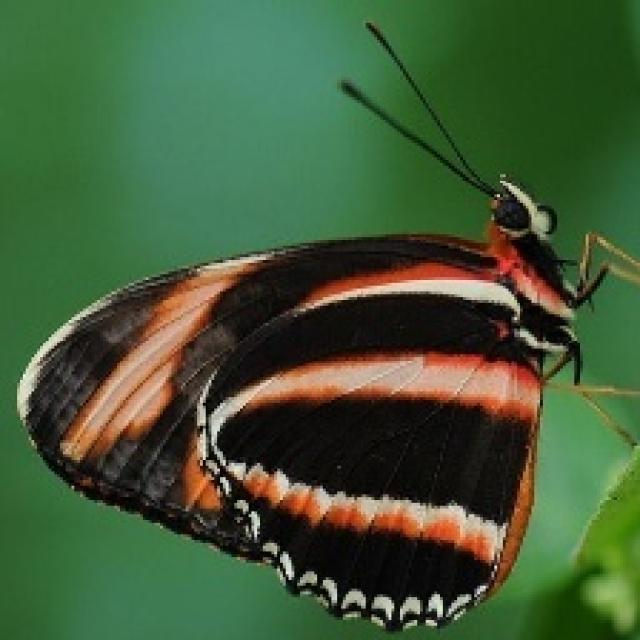butterfly: (12, 17, 637, 634)
